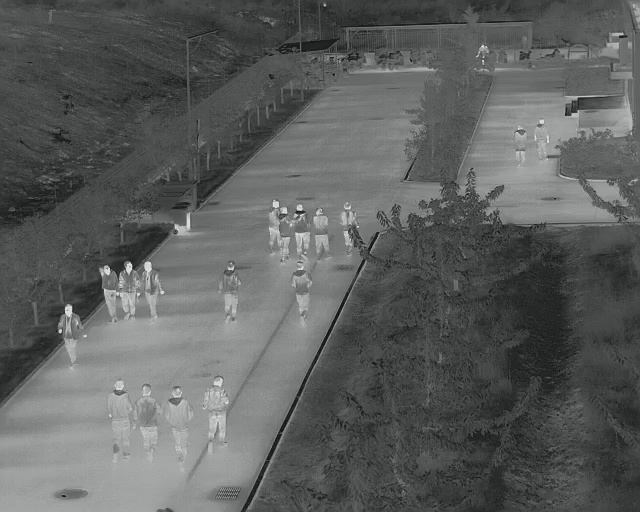NonMotorVehicle: (474, 43, 496, 73)
person: (107, 379, 136, 462), (167, 387, 194, 465), (135, 384, 160, 460), (204, 375, 227, 452), (59, 305, 85, 369), (140, 260, 164, 320), (291, 262, 313, 323), (119, 261, 142, 319), (269, 199, 290, 261), (339, 202, 359, 256), (291, 205, 310, 261), (224, 261, 240, 324), (100, 266, 117, 322), (314, 208, 331, 259), (534, 119, 548, 161), (514, 127, 527, 170)
